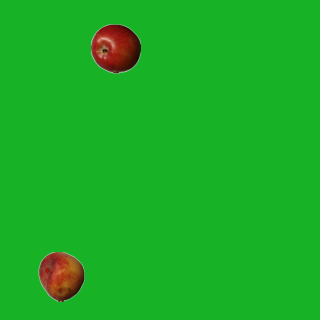Apple Braeburn: (90, 23, 140, 73)
Peach: (36, 251, 86, 301)
